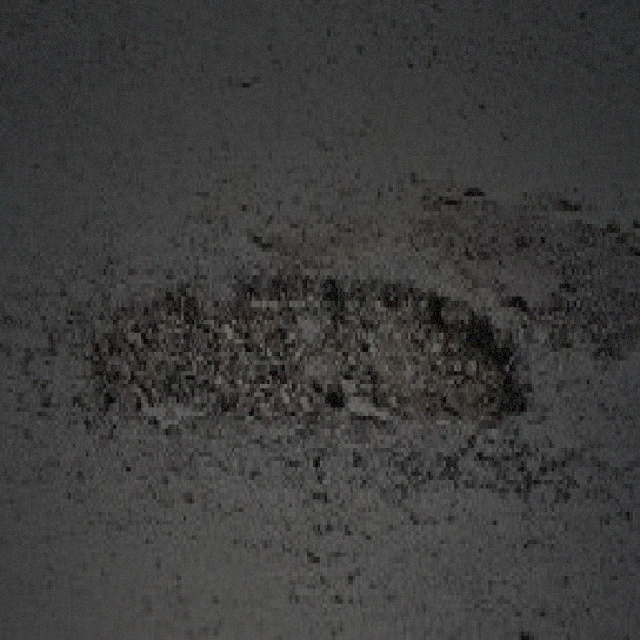pothole: (87, 258, 531, 433)
